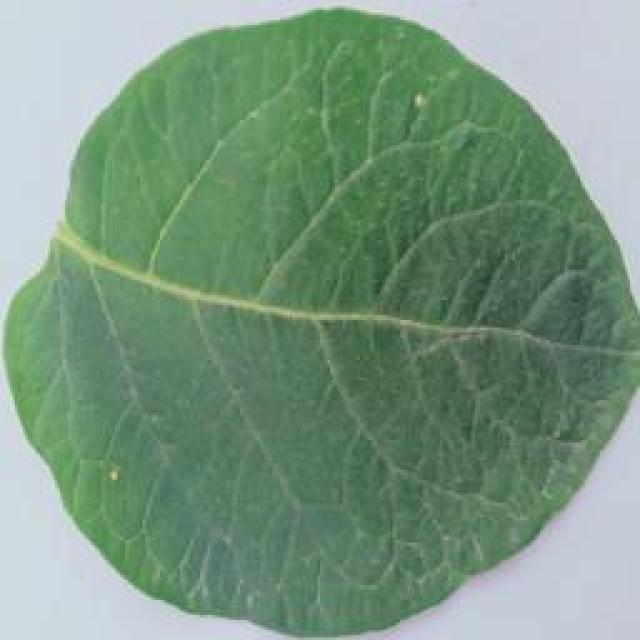Potato_Healthy: (4, 6, 629, 630)
